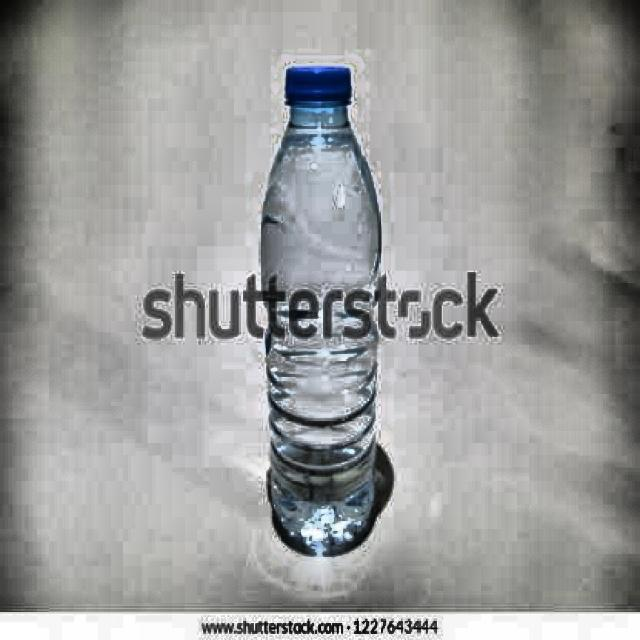Bottles: (217, 55, 440, 578)
